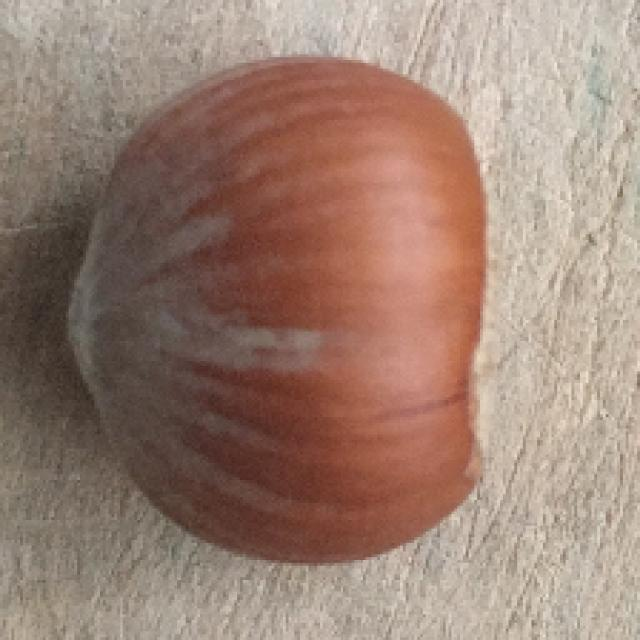qualityHazelnut: (57, 46, 512, 568)
